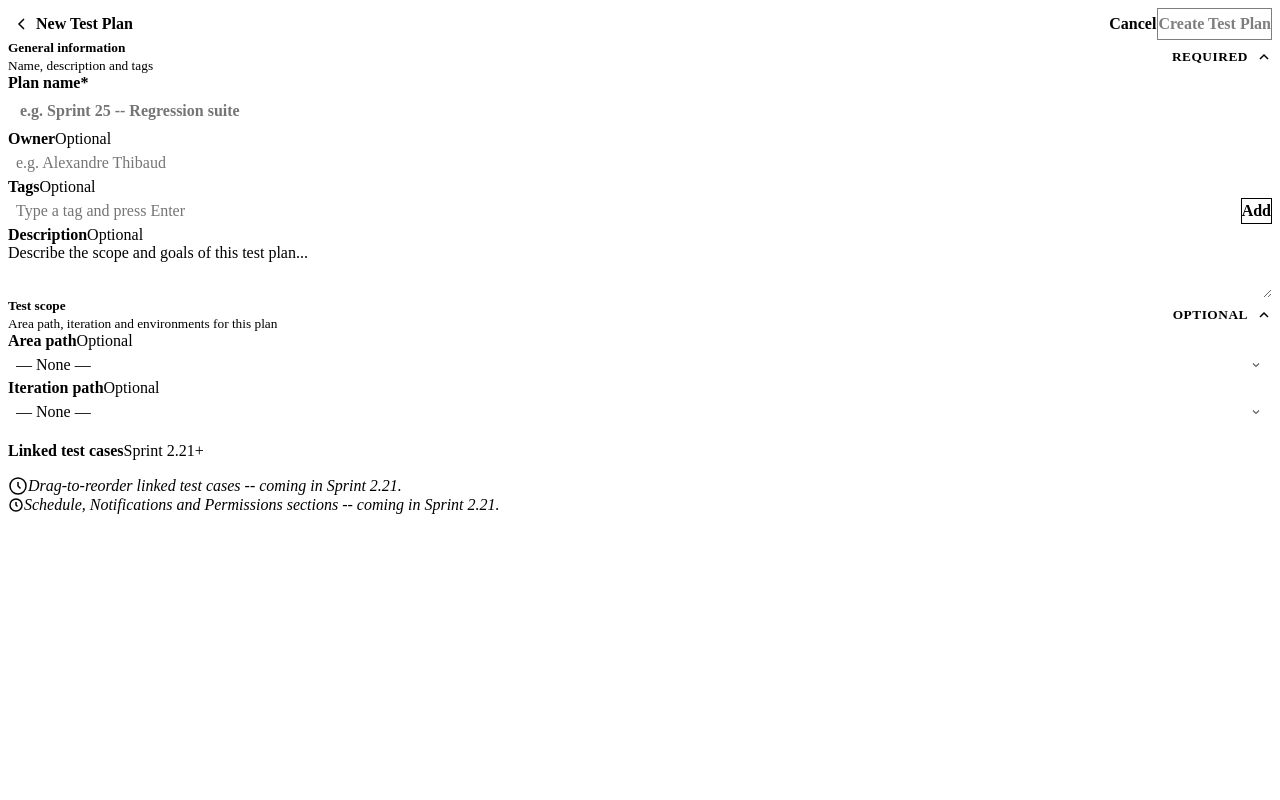
TestPlanFormView (Sprint 2.18) › shows toast on successful creation
Type "Toast Plan" into the field labelled "Plan name *" at (640,111), box x1=8 y1=92 x2=1272 y2=130
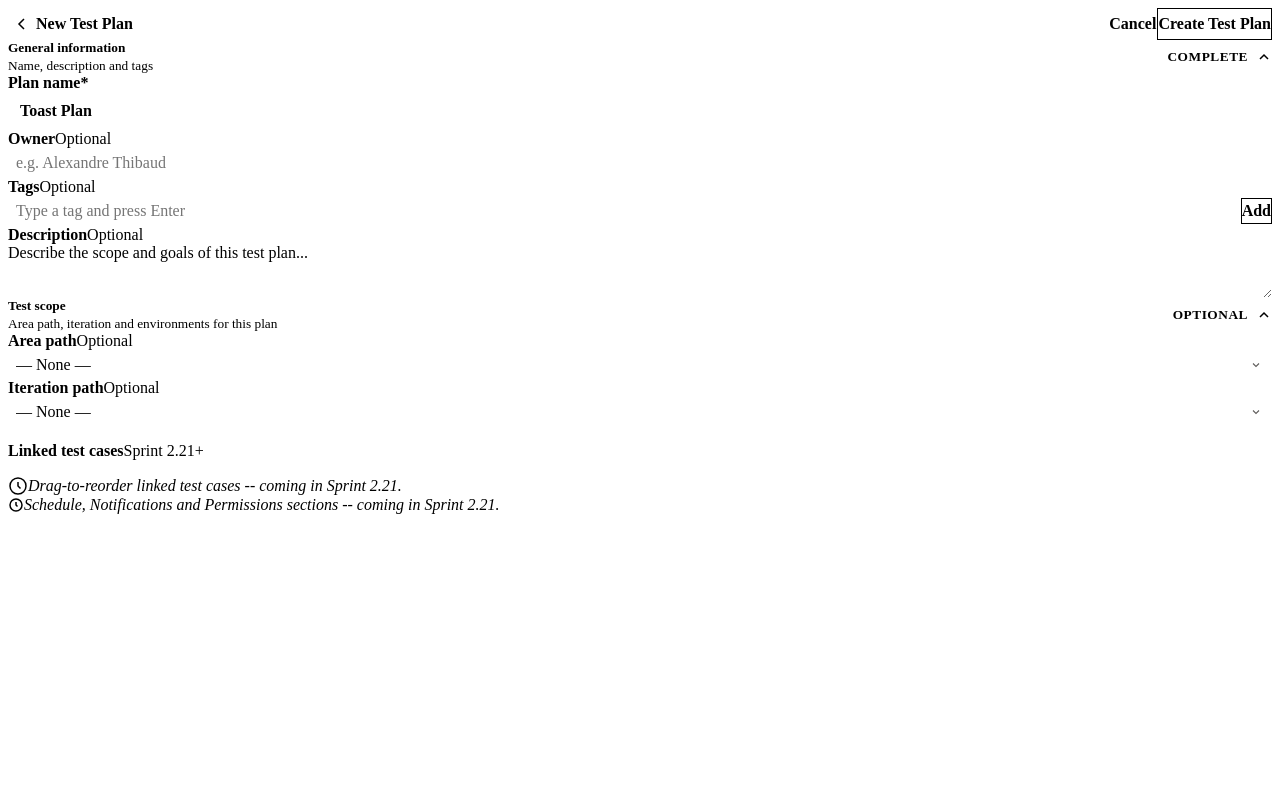
Click the button "Create Test Plan" at (1215,24), box x1=1157 y1=8 x2=1272 y2=40
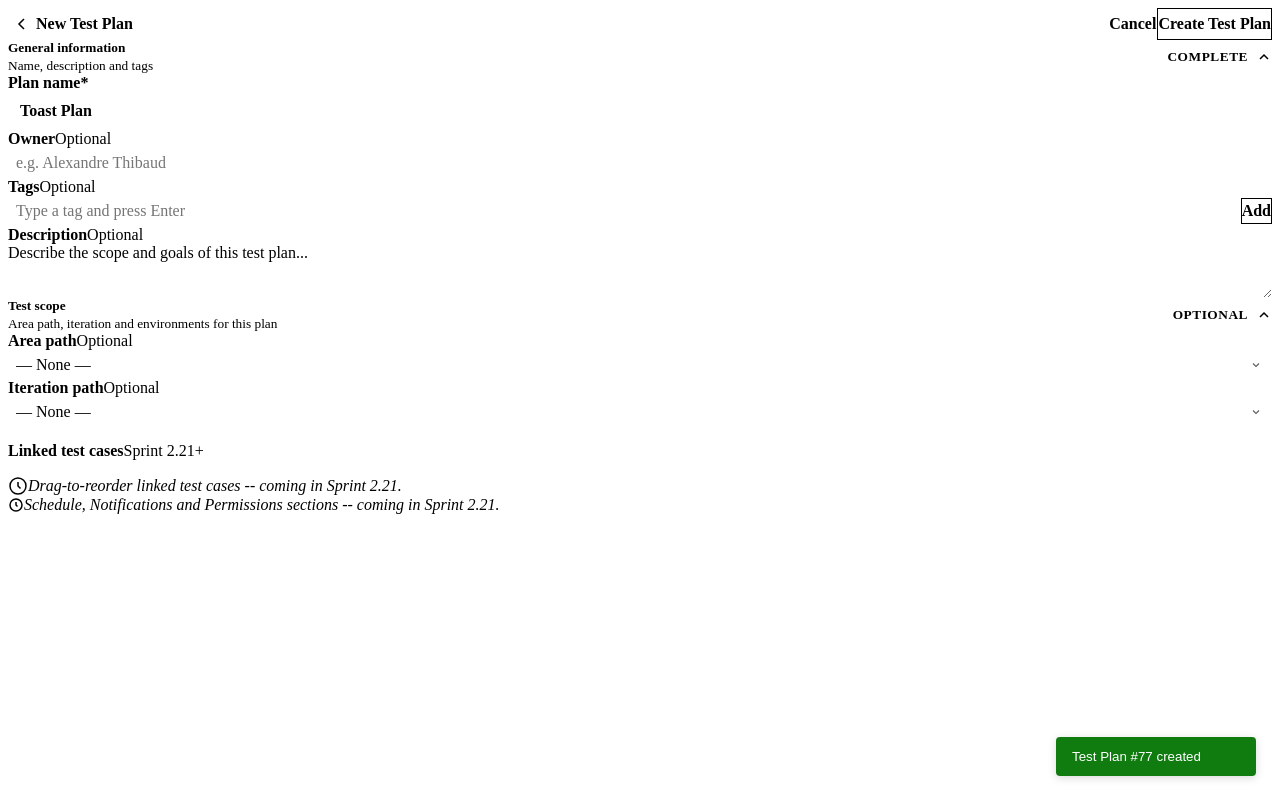
Expected: the button with test id "toast-success" is shown, x1=1056 y1=737 x2=1256 y2=776
